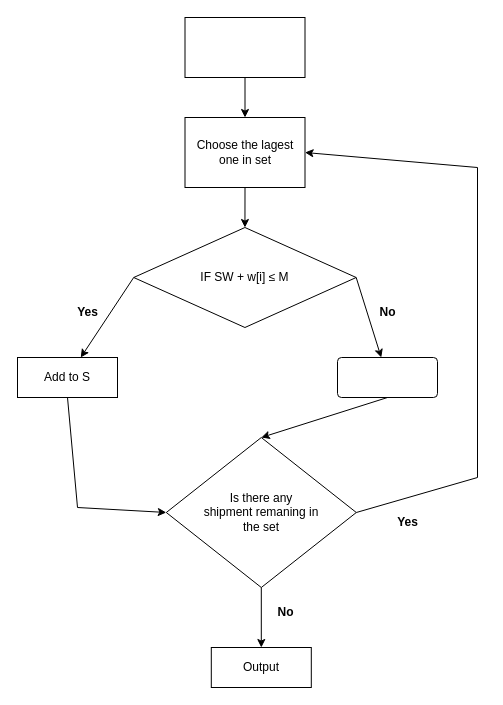
Image size: 503x705. Some labels were removed from this diagram. The centre of each missing label's shape, as x and y in pixels:
Items are presorted in decreasing order of pi = vi / wi ratio: pixel 244 47
Reject this shipment: pixel 387 377
